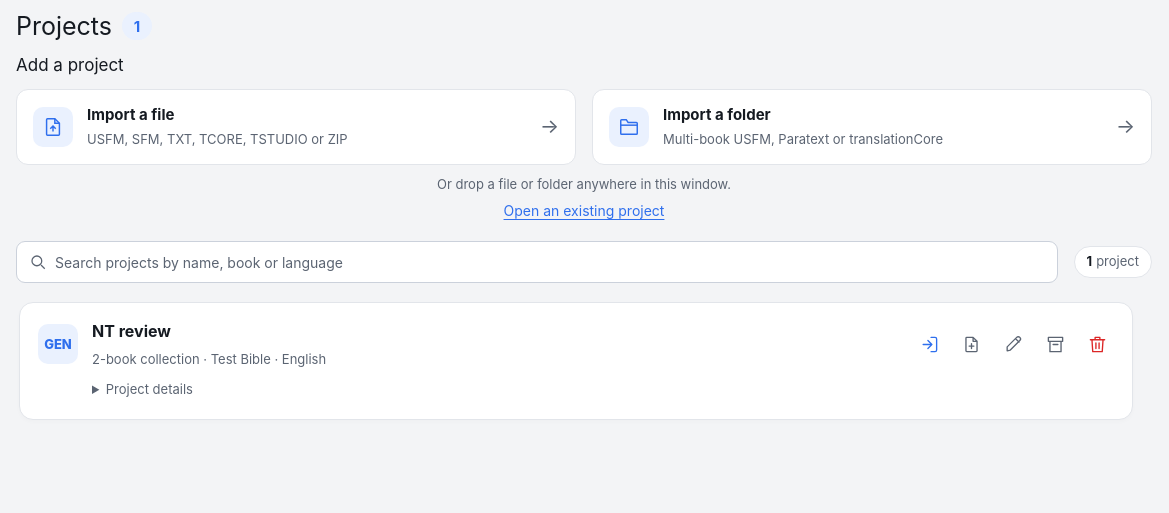
ImportScreen projects list (#238) › omits the book coverage once every book of the collection is counted
The width and height of the screenshot is (1169, 513).
expect the text "NT review" is shown: met, box [92,321,171,341]
What coordinates should you click on to do the following:
click the heading "Project details"
I would click on:
 (149, 389)
Its box is [106,381,193,397].
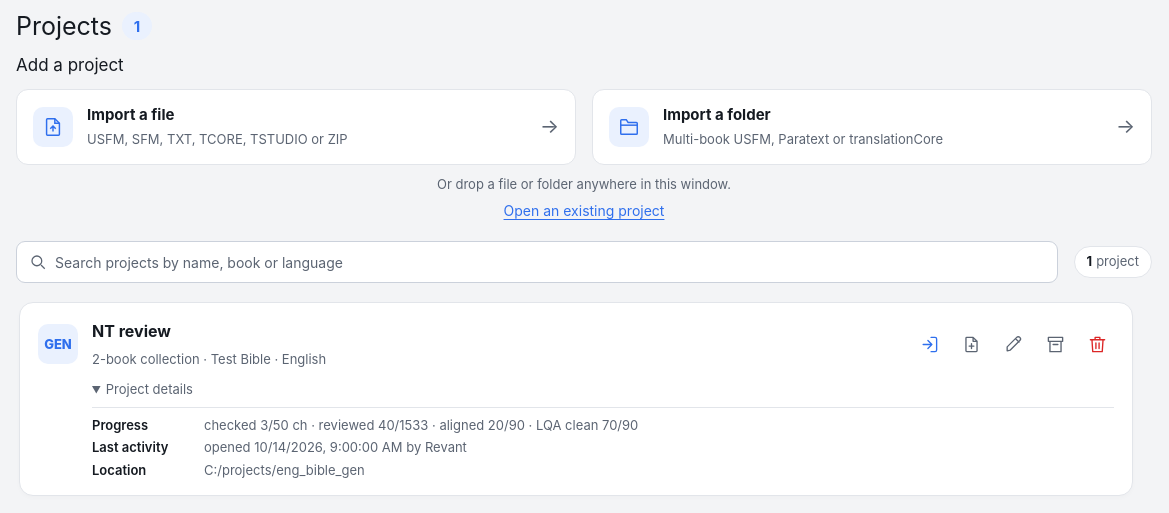
expect the text "checked 3/50 ch · reviewed 40/1533 · aligned 20/90 · LQA clean 70/90" is shown: met, box [204,417,638,433]
